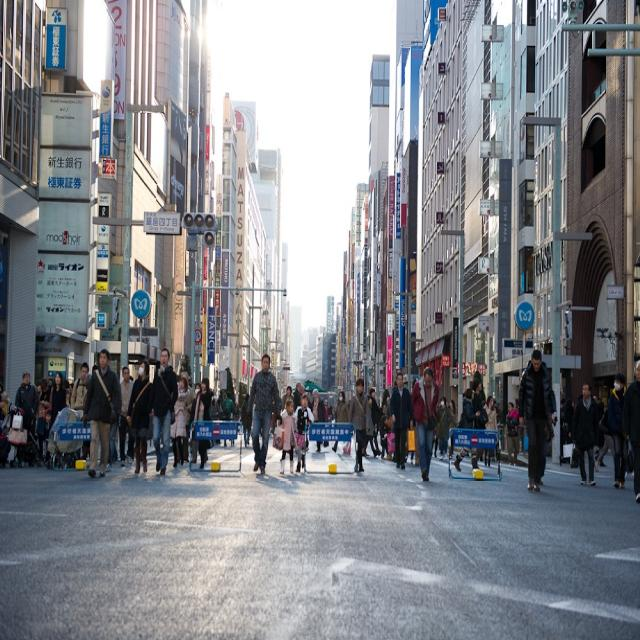body: (517, 348, 557, 495), (83, 347, 122, 477), (245, 352, 285, 475), (150, 347, 178, 477), (568, 381, 602, 488), (92, 350, 121, 473), (125, 358, 155, 474), (410, 366, 440, 482), (606, 372, 629, 491), (453, 387, 484, 475), (389, 371, 414, 471), (624, 357, 640, 502), (347, 377, 370, 472), (168, 376, 190, 468), (194, 376, 215, 469), (292, 392, 315, 476), (174, 368, 193, 462), (282, 383, 329, 421), (14, 370, 40, 437), (119, 365, 136, 467), (278, 398, 299, 475), (594, 407, 616, 472), (482, 393, 499, 469), (361, 392, 379, 460), (331, 390, 350, 454), (188, 381, 202, 465), (369, 386, 384, 457), (310, 388, 326, 454), (436, 394, 452, 460), (0, 381, 12, 468), (49, 370, 66, 431), (505, 399, 520, 466), (70, 361, 90, 411), (469, 380, 488, 430), (222, 390, 238, 447), (591, 398, 602, 470), (207, 392, 224, 438), (240, 392, 253, 447), (379, 413, 392, 461), (43, 410, 53, 465), (38, 376, 54, 409), (66, 376, 76, 420), (447, 397, 459, 428), (564, 398, 575, 431), (514, 414, 527, 439), (508, 402, 520, 428), (492, 398, 501, 432), (381, 390, 392, 413), (404, 451, 415, 463), (36, 382, 43, 394)
